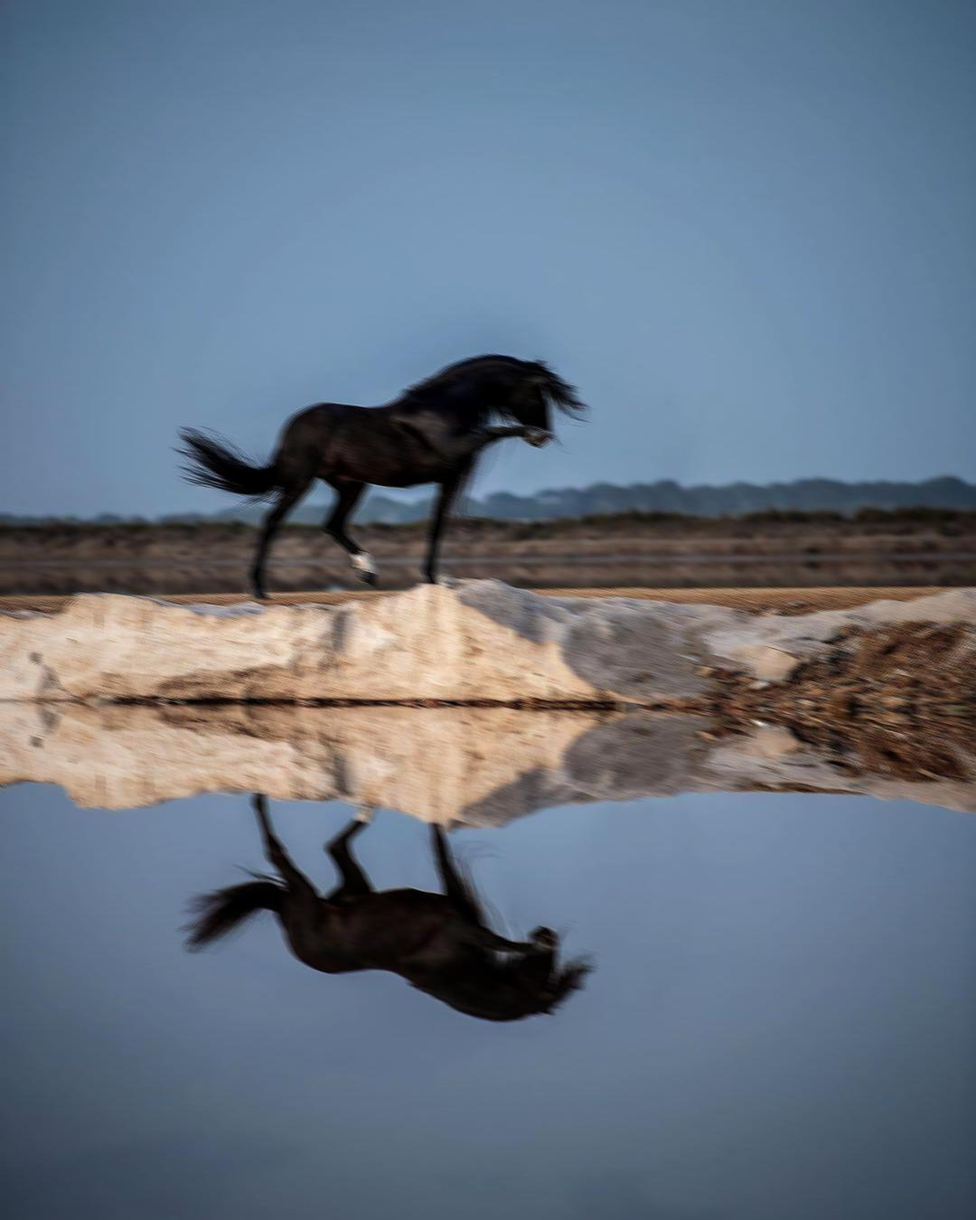horse: (171, 352, 589, 600), (176, 791, 595, 1022)
